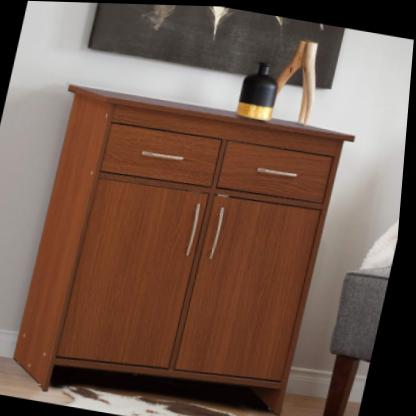Sideboard: (5, 77, 358, 416)
